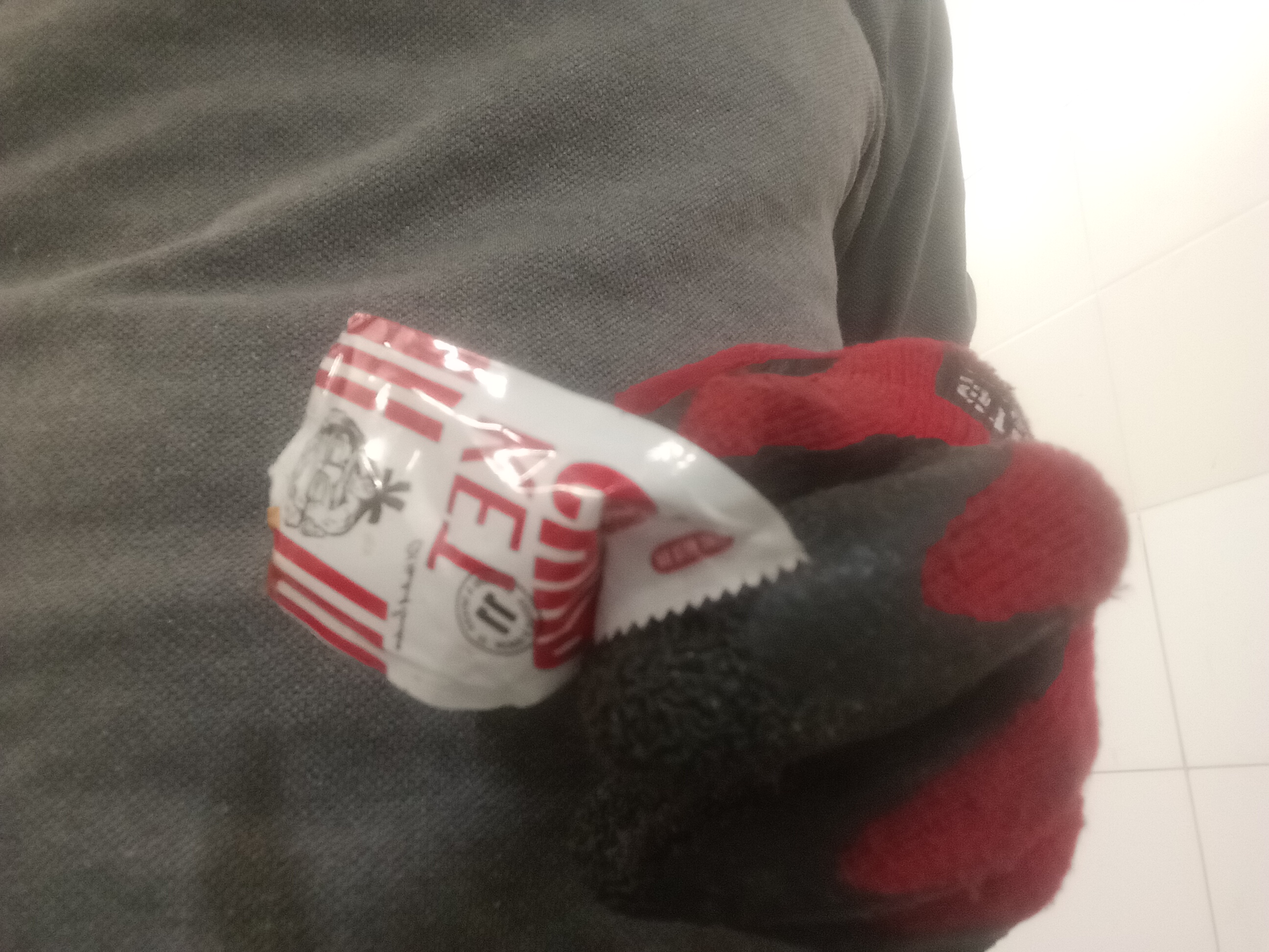Ordinario: (265, 311, 808, 712)
